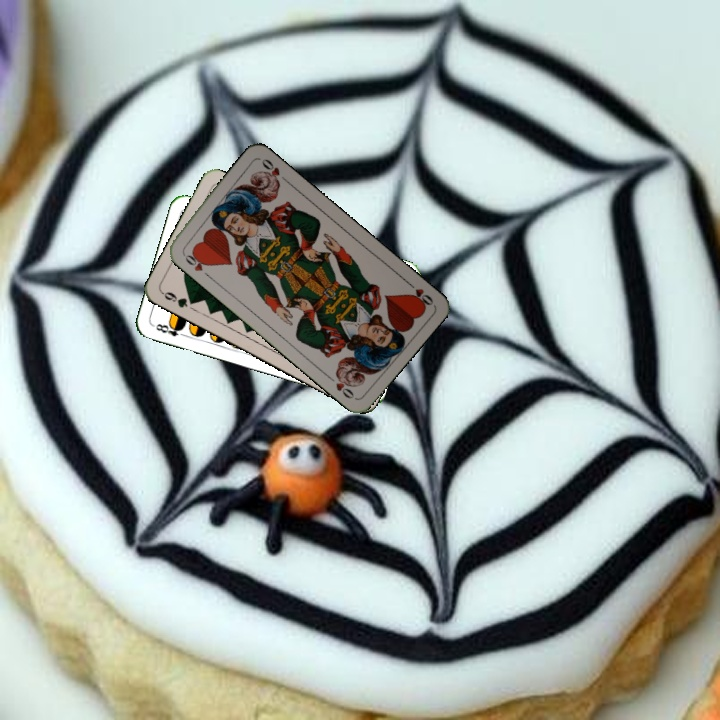E8: (152, 319, 189, 340)
G9: (158, 288, 198, 310)
HO: (402, 276, 436, 310), (178, 247, 212, 280)
